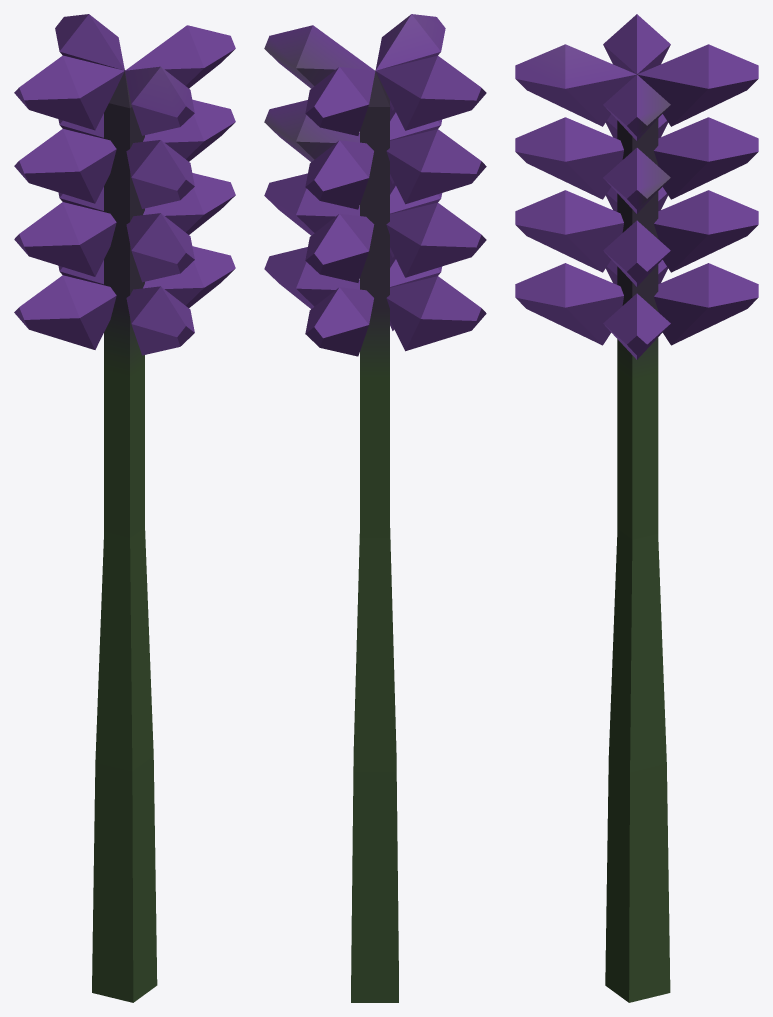
Rendered from SM_Lavender.fbx.
3 renders of one model, left to right at view 1: azimuth 30°, elevation 25°; view 2: azimuth 150°, elevation 25°; view 3: azimuth 270°, elevation 25°, orthographic.
Parts seen in each view (by area): view 1: SM_Lavender; view 2: SM_Lavender; view 3: SM_Lavender.
Boxes of the visible parts, x1,y1,x2,y2 form: SM_Lavender: (14, 14, 235, 1002); SM_Lavender: (264, 14, 486, 1002); SM_Lavender: (515, 14, 758, 1002).
Bounding box in the file's own units: 10.19 × 43.69 × 10.19.
